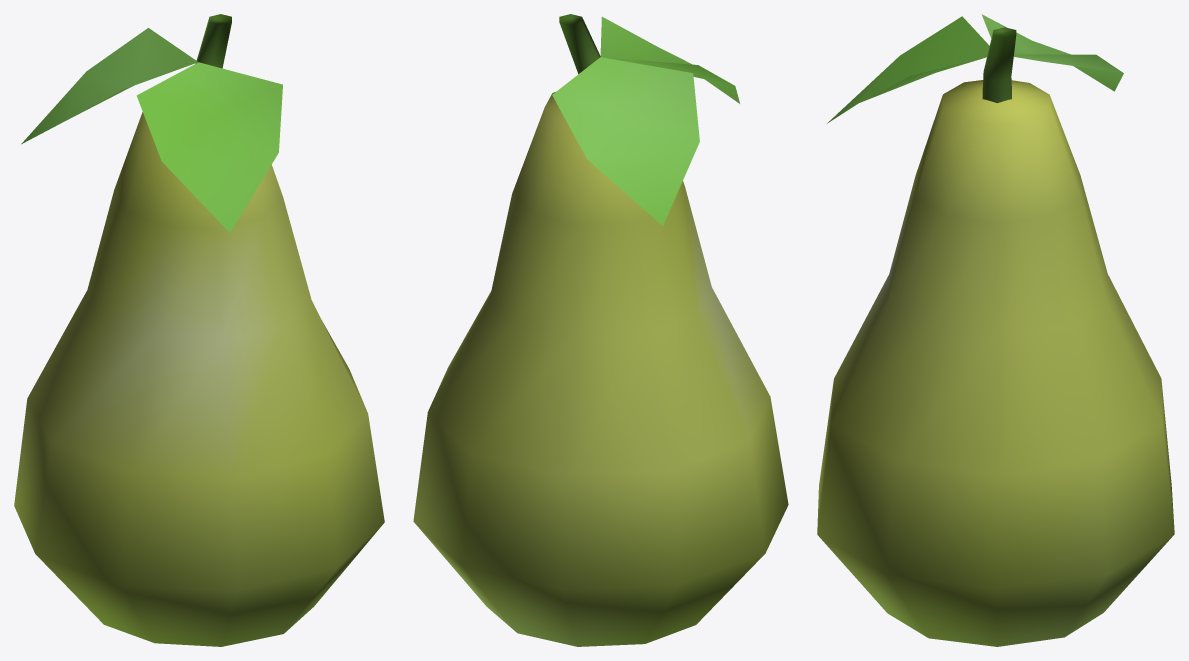
Rendered from food_fruit_b.fbx.
3 views of the same model, side by side, from view 1: azimuth 30°, elevation 25°; view 2: azimuth 150°, elevation 25°; view 3: azimuth 270°, elevation 25° (orthographic).
Parts seen in each view (by area): view 1: food_fruit_b; view 2: food_fruit_b; view 3: food_fruit_b.
Boxes of the visible parts, x1,y1,x2,y2 form: food_fruit_b: (14, 14, 384, 646); food_fruit_b: (413, 14, 788, 646); food_fruit_b: (817, 14, 1174, 646).
Size of the model in its own units: 100 by 174 by 95.26.
